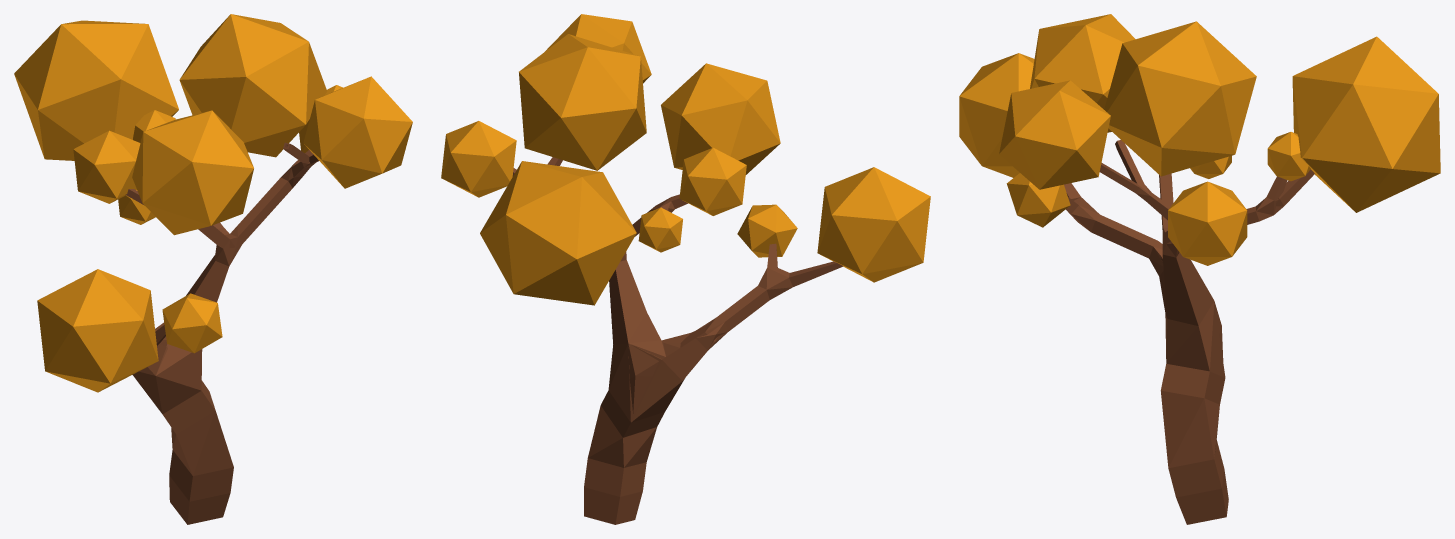
The model's file is Tree1.7.fbx.
3 views of the same model, side by side, from view 1: azimuth 30°, elevation 25°; view 2: azimuth 150°, elevation 25°; view 3: azimuth 270°, elevation 25° (orthographic). The views are drawn at different scales.
Visible parts, largest first — view 1: Trunck Tree1.7; view 2: Trunck Tree1.7; view 3: Trunck Tree1.7.
Boxes of the visible parts, bbox=[...] form: Trunck Tree1.7: bbox=[14, 14, 412, 524]; Trunck Tree1.7: bbox=[441, 14, 930, 524]; Trunck Tree1.7: bbox=[959, 14, 1440, 524].
Bounding box in the file's own units: 1193 × 1353 × 1158.
